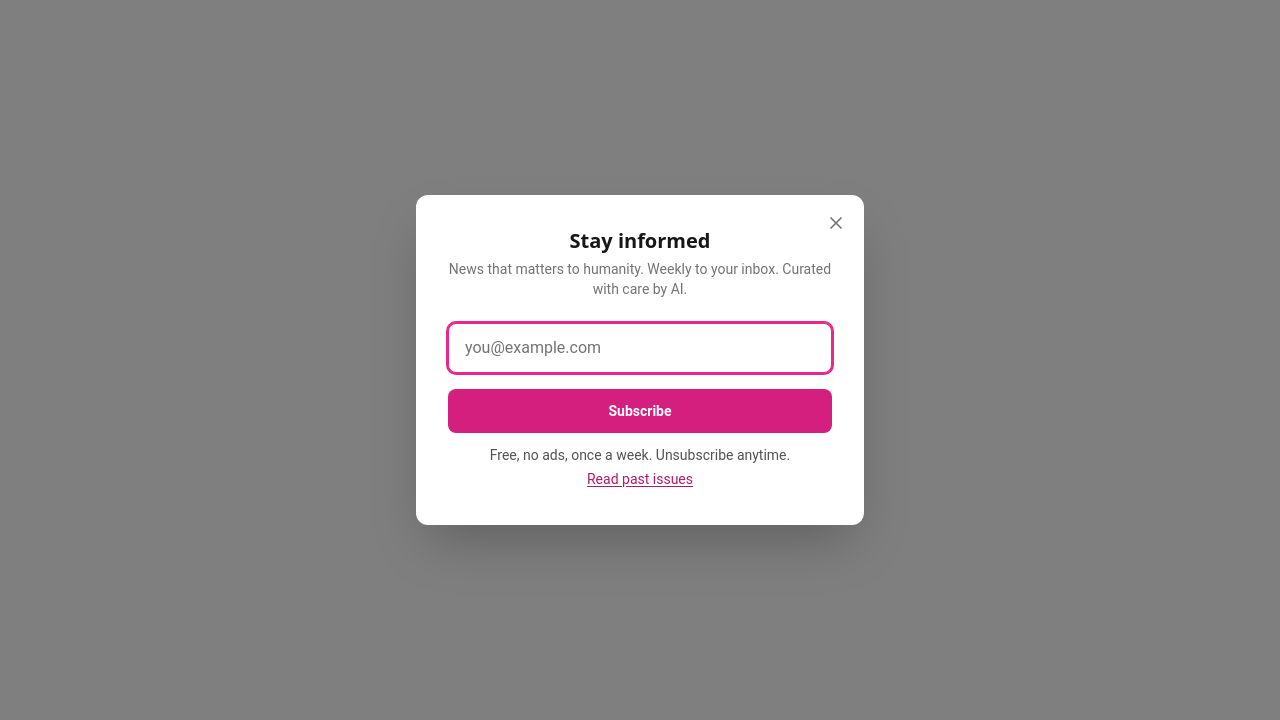
Scenario: SubscribeModal › is named by the form heading, and keeps that name once "Check your email" replaces the form
This screenshot has width=1280, height=720.
Expected: the heading "Stay informed" is shown, [570,227,710,254]
Expected: the button "Subscribe" is enabled, [448,389,832,433]
Type "reader@example.com" into the field named "Email address" at (640, 348), box [448,323,832,373]
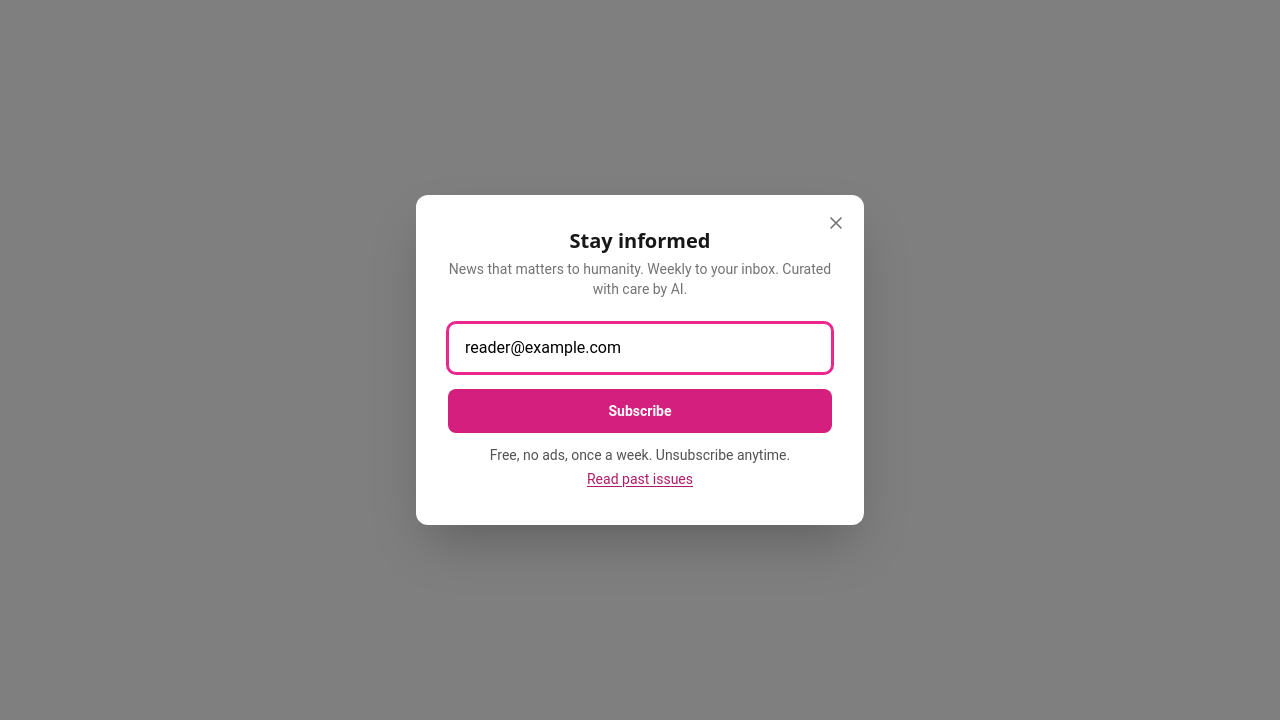
Click the button "Subscribe" at (640, 411), box [448,389,832,433]
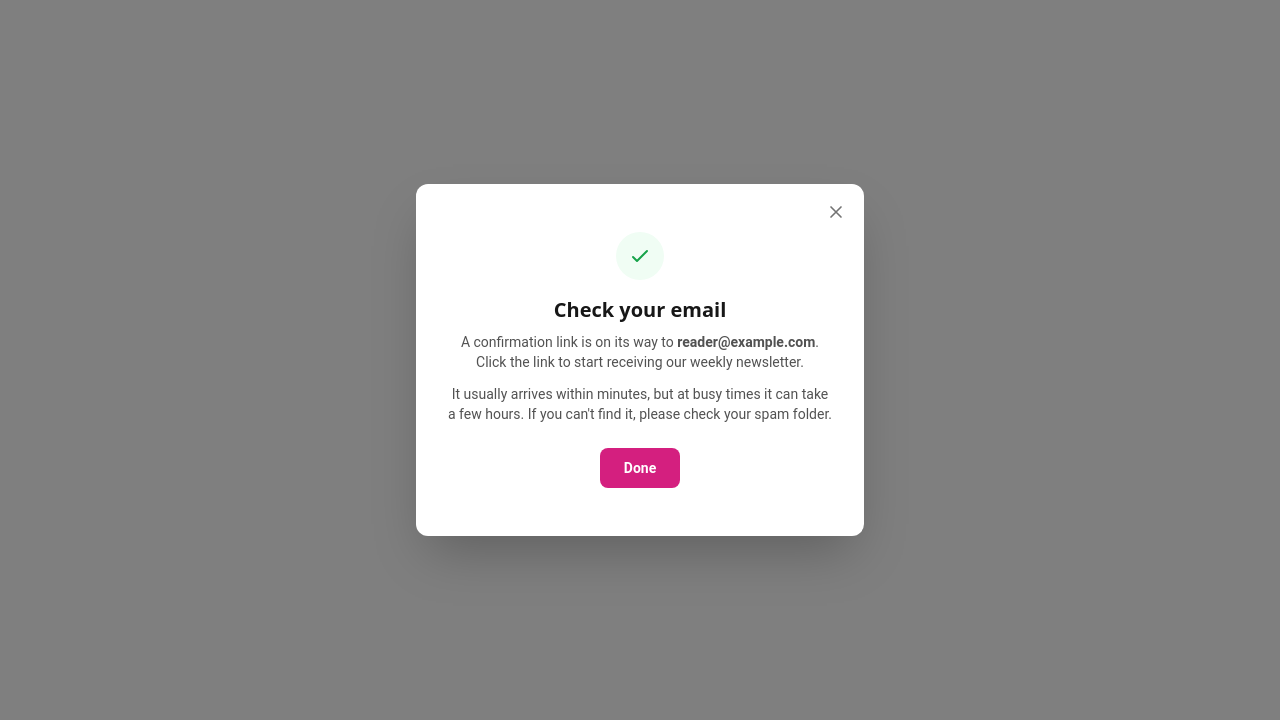
Result: the heading "Check your email" is shown at [554,296,726,323]
